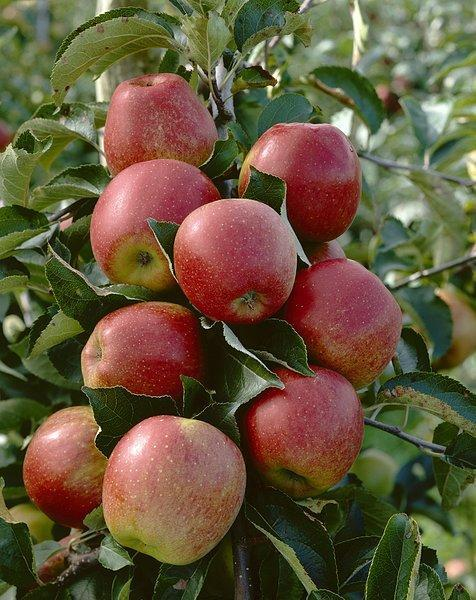apple: (100, 412, 244, 561), (92, 160, 224, 293), (235, 363, 363, 499), (171, 198, 299, 327), (238, 119, 363, 250), (277, 256, 401, 387), (79, 299, 209, 406), (101, 70, 216, 177), (20, 405, 110, 531)
